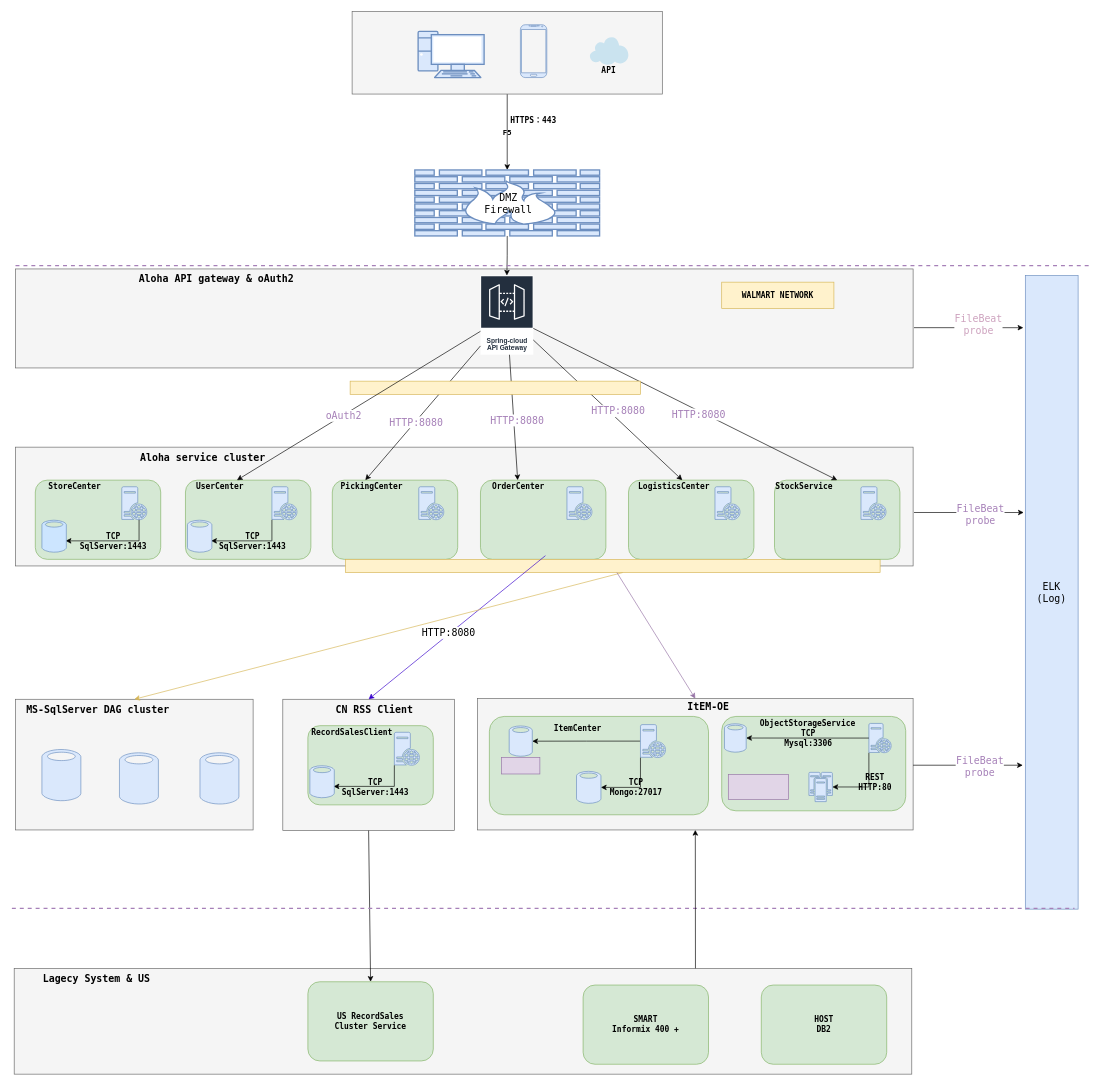
Some shapes in this 1104 by 1086 pixel diagram are drawn without their labels. The centre of each missing label's shape, as x and y in pixels:
"Feign" goes at (x=495, y=387).
"HCP ObjectStorage" goes at (x=758, y=786).
"RabbitMQ" goes at (x=520, y=765).
